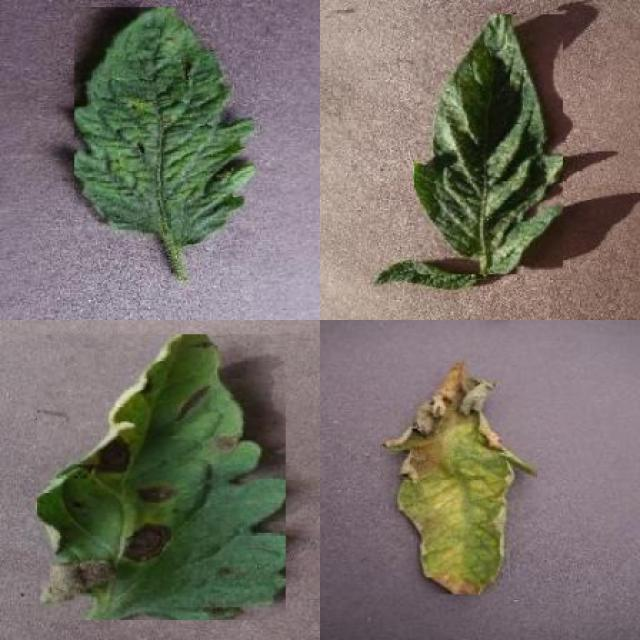Early Blight: (37, 334, 286, 620)
Late Blight: (386, 363, 538, 594)
Mosaic Virus: (75, 8, 255, 245)
Spider Mites: (414, 15, 563, 274)
